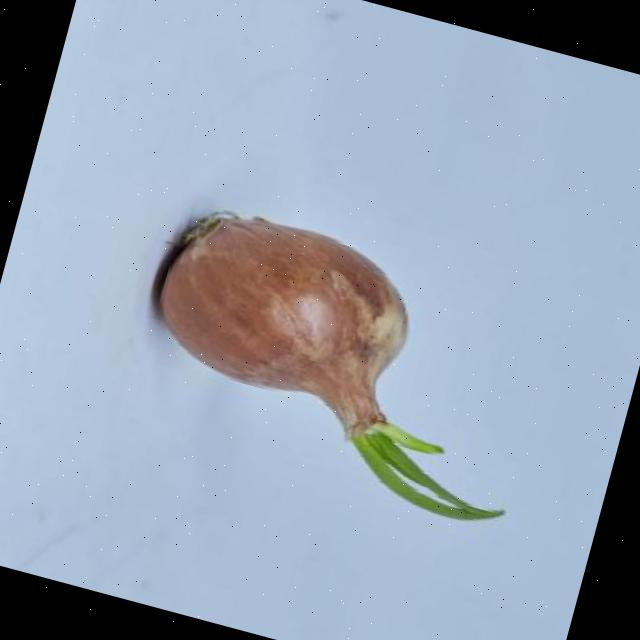Onion: (156, 212, 406, 438)
